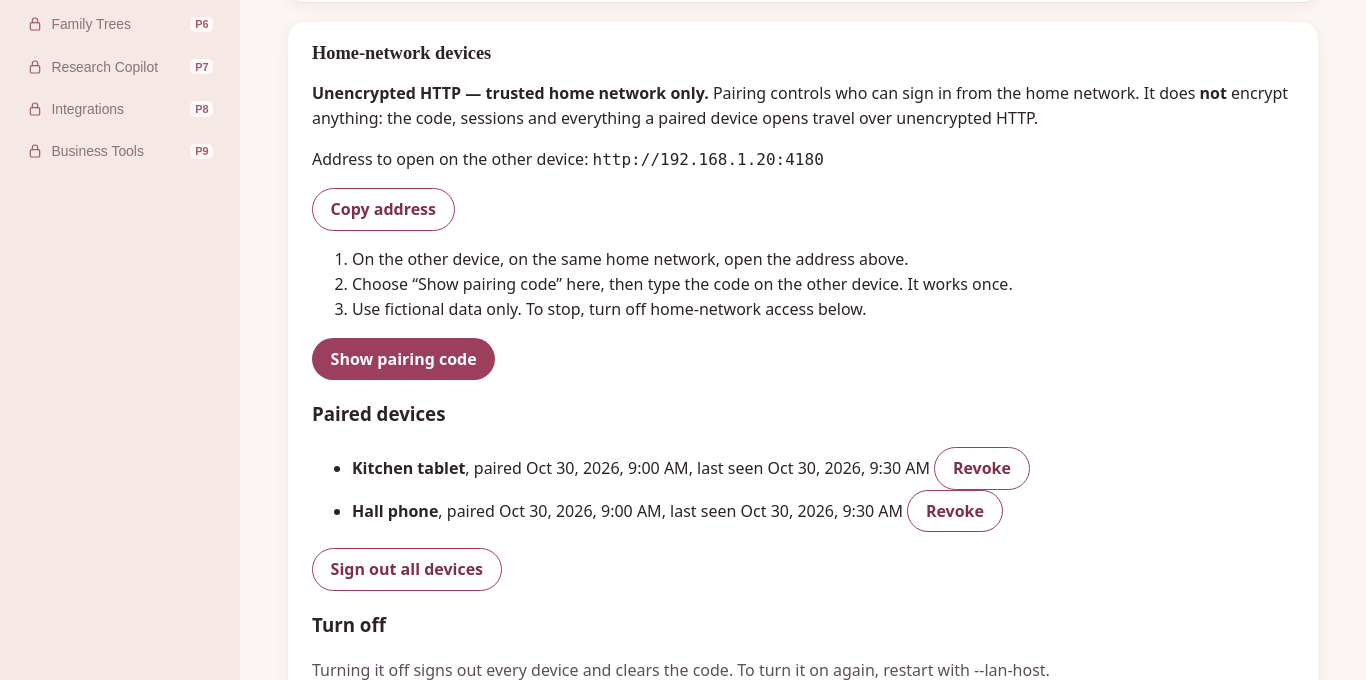
host device panel › shows the code only on request, lists devices, revokes one and all
The width and height of the screenshot is (1366, 680).
(page scrolled)
expect the heading "Home-network devices" is shown: met, box [312, 43, 491, 63]
expect the text "encrypt anything" is shown: met, box [312, 82, 1288, 129]
Click the button "Show pairing code" at (404, 359), box [312, 338, 495, 380]
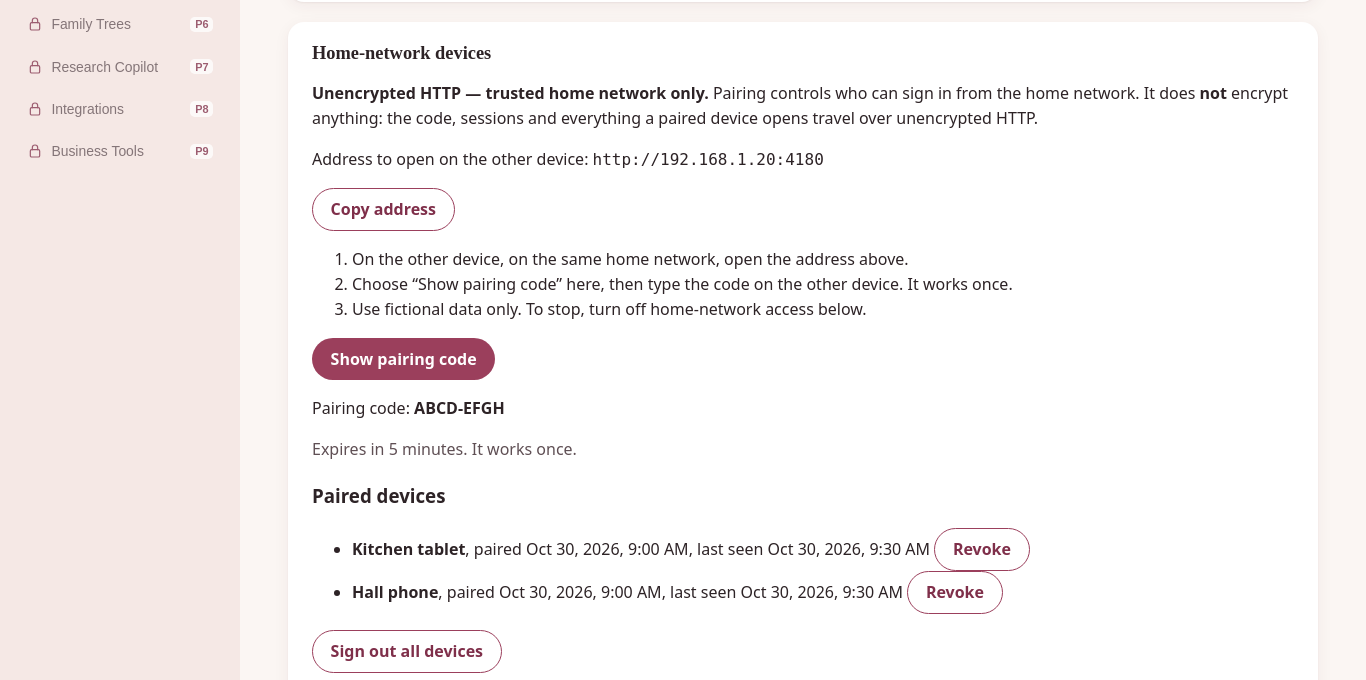
expect the message with test id "pairing-code" shows "ABCD-EFGH": met, box [414, 397, 505, 419]
expect the message with test id "pairing-code" shows "Expires in 5 minutes": met, box [312, 438, 577, 460]
Click the button with aria-label "Revoke Kitchen tablet" at (982, 550), box [934, 528, 1030, 571]
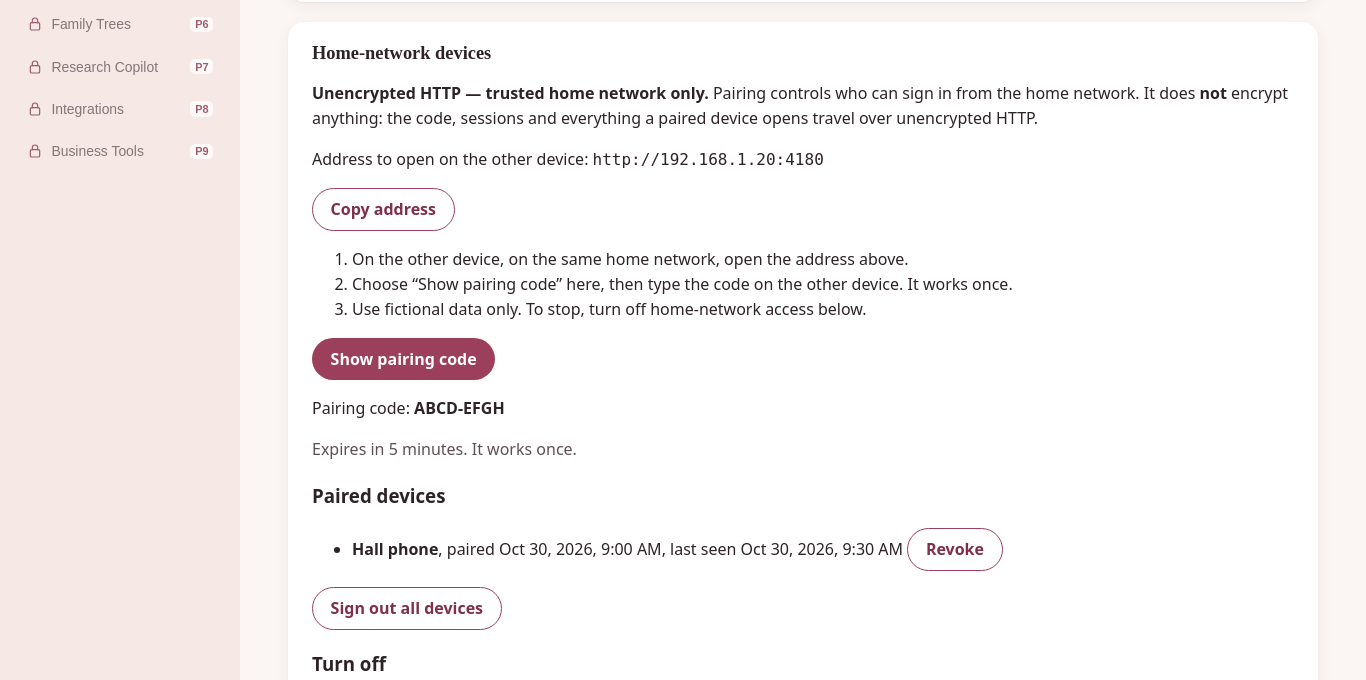
expect the text "Kitchen tablet" is gone: met
Click the button "Sign out all devices" at (407, 609), box [312, 587, 502, 630]
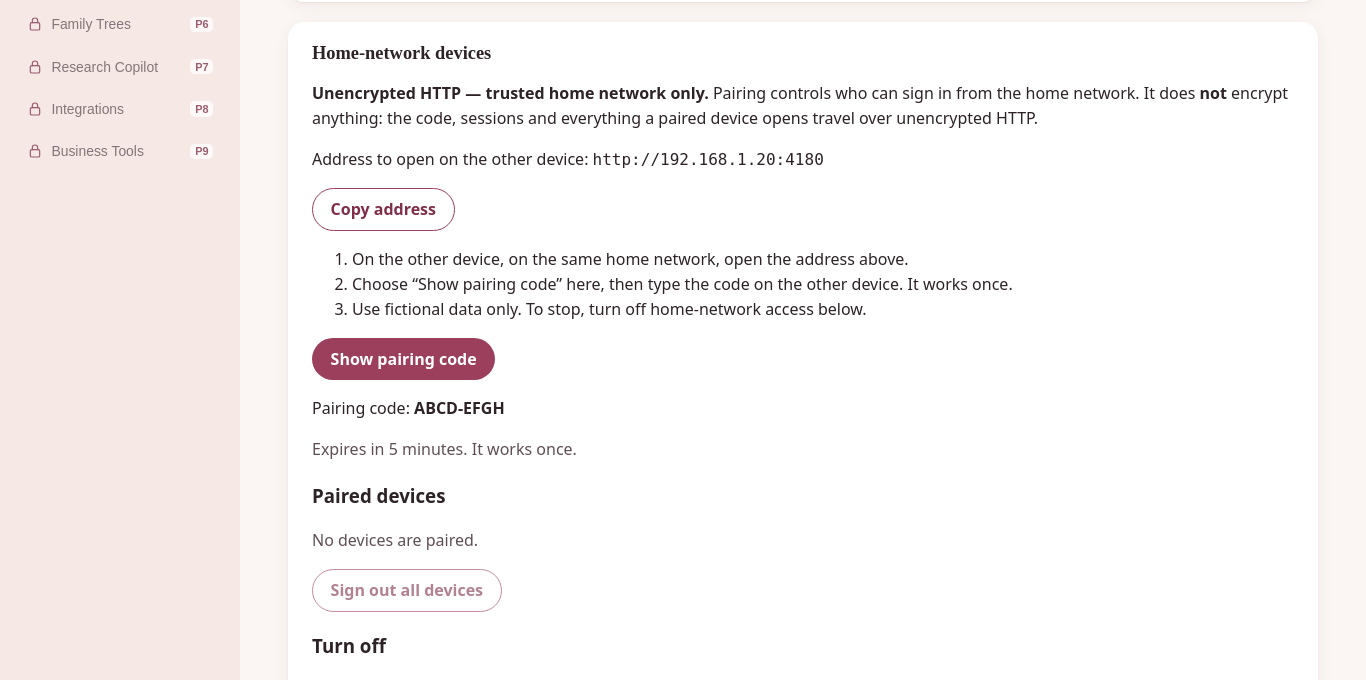
expect the text "No devices are paired." is shown: met, box [312, 530, 478, 552]
